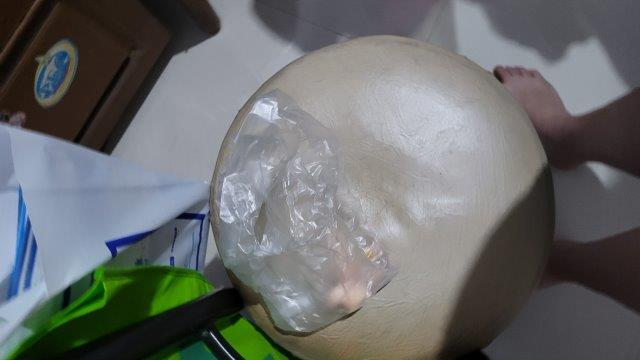plastik: (218, 90, 394, 327), (2, 124, 210, 278)
